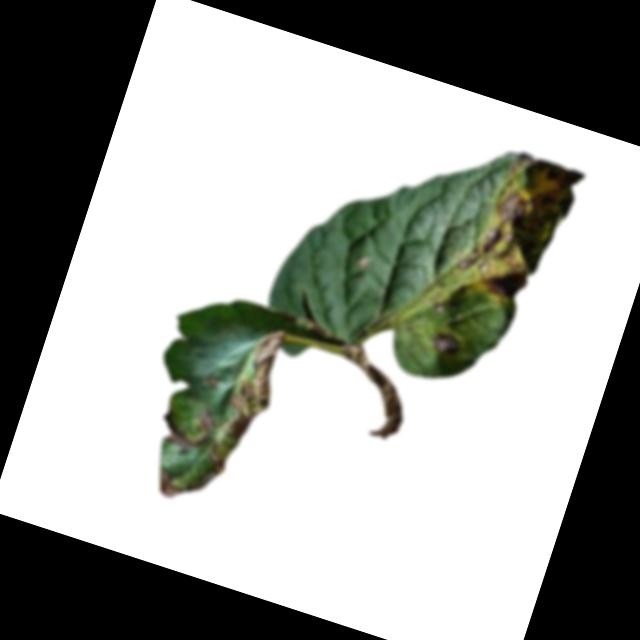Early_blight: (449, 141, 586, 309), (202, 321, 293, 485), (317, 339, 435, 447), (161, 399, 220, 456), (152, 466, 193, 502), (431, 328, 462, 357), (207, 373, 222, 388)
